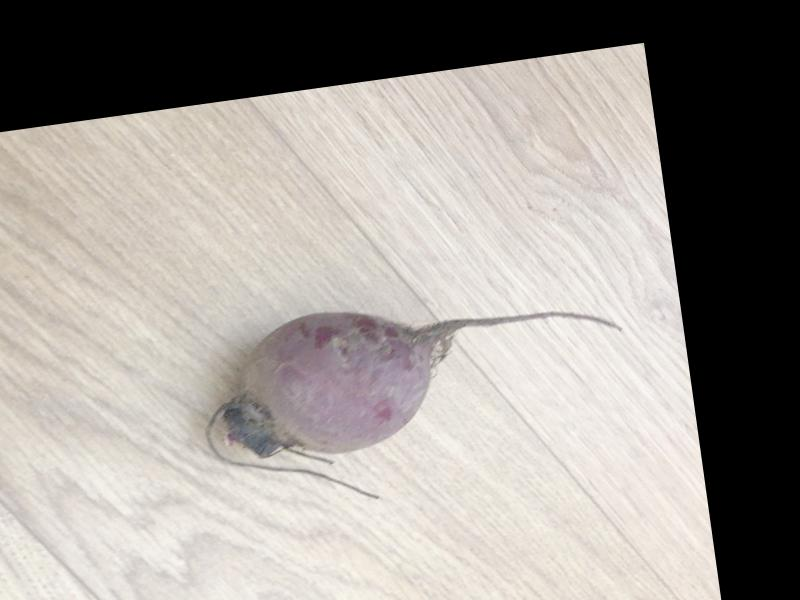Beet: (192, 270, 642, 520)
